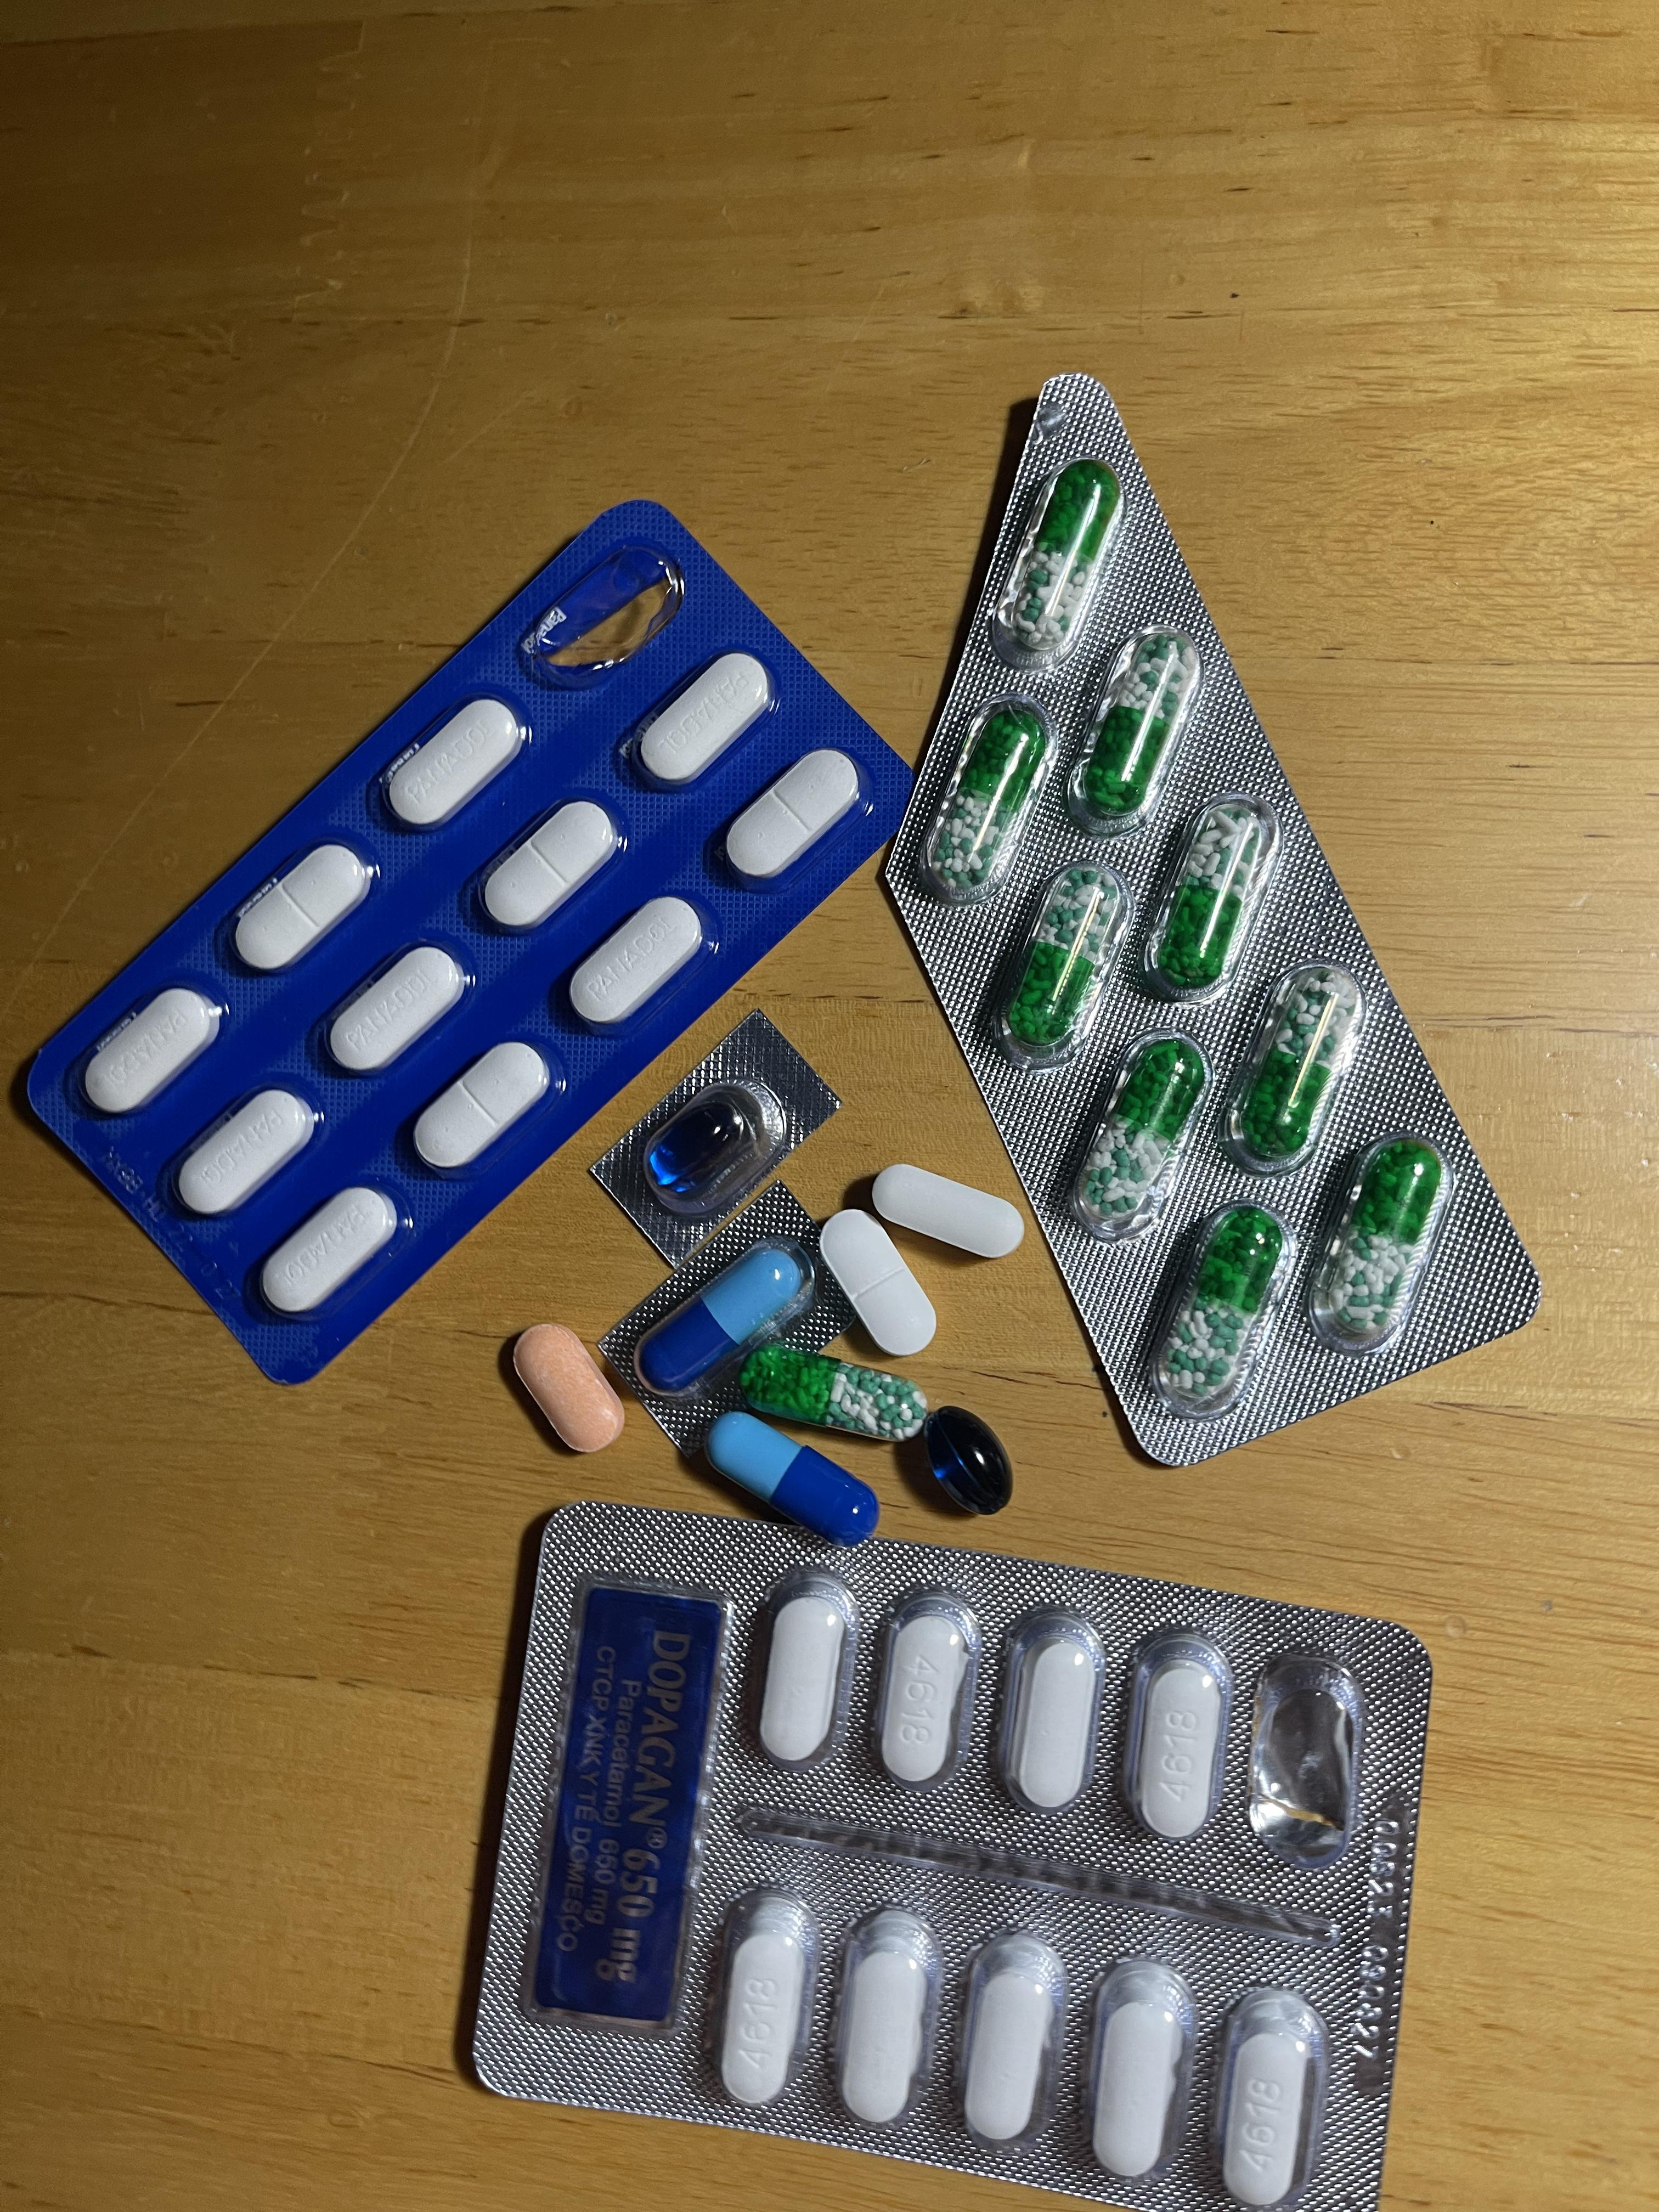Lincomyxin_500mg: (648, 1096, 767, 1195), (922, 1404, 1014, 1515)
Loratadine_10mg: (507, 1324, 627, 1454)
Paracetamol_350mg: (631, 653, 775, 791), (721, 749, 863, 888), (378, 695, 521, 833), (326, 941, 469, 1073), (568, 894, 706, 1029), (258, 1188, 401, 1318), (174, 1087, 319, 1216), (235, 841, 375, 972), (82, 986, 223, 1115), (411, 1042, 549, 1172), (816, 1207, 934, 1359), (479, 799, 615, 930)
Paracetamol_500mg: (1211, 1986, 1328, 2209), (1117, 1623, 1229, 1839), (873, 1588, 981, 1792), (720, 1921, 810, 2106), (965, 1963, 1056, 2146), (842, 1942, 929, 2123), (1096, 2000, 1183, 2174), (1012, 1635, 1096, 1810), (873, 1163, 1025, 1259), (760, 1597, 847, 1763)
Paracetamol_650mg: (1304, 1127, 1448, 1355), (1218, 960, 1370, 1174), (1145, 1198, 1288, 1421), (1061, 1029, 1206, 1238), (918, 695, 1058, 899), (990, 857, 1126, 1061), (1140, 798, 1276, 1001), (992, 455, 1124, 658), (1061, 629, 1195, 829), (734, 1338, 924, 1440)
pill: (633, 1235, 814, 1402), (706, 1416, 878, 1540)
